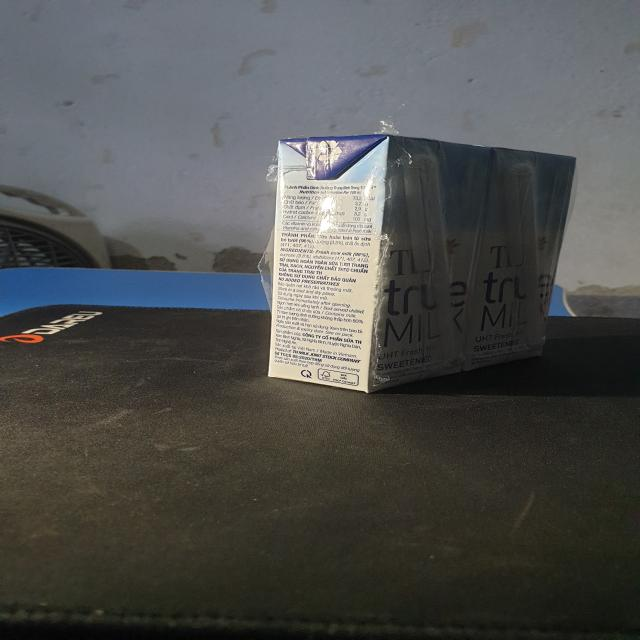TH: (268, 137, 489, 392), (469, 149, 575, 375)
